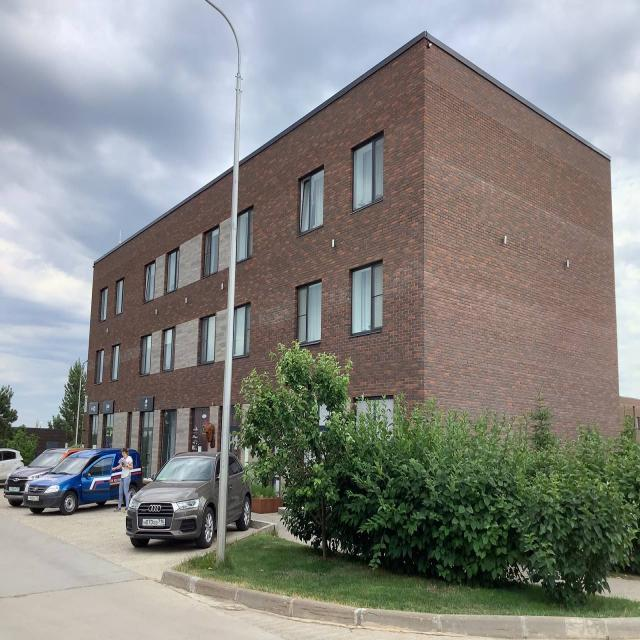Building: (81, 32, 620, 472)
